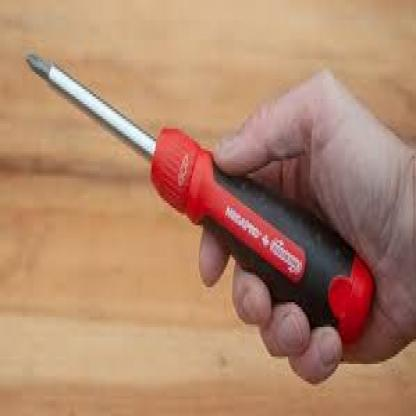Screw Driver: (24, 51, 377, 345)
